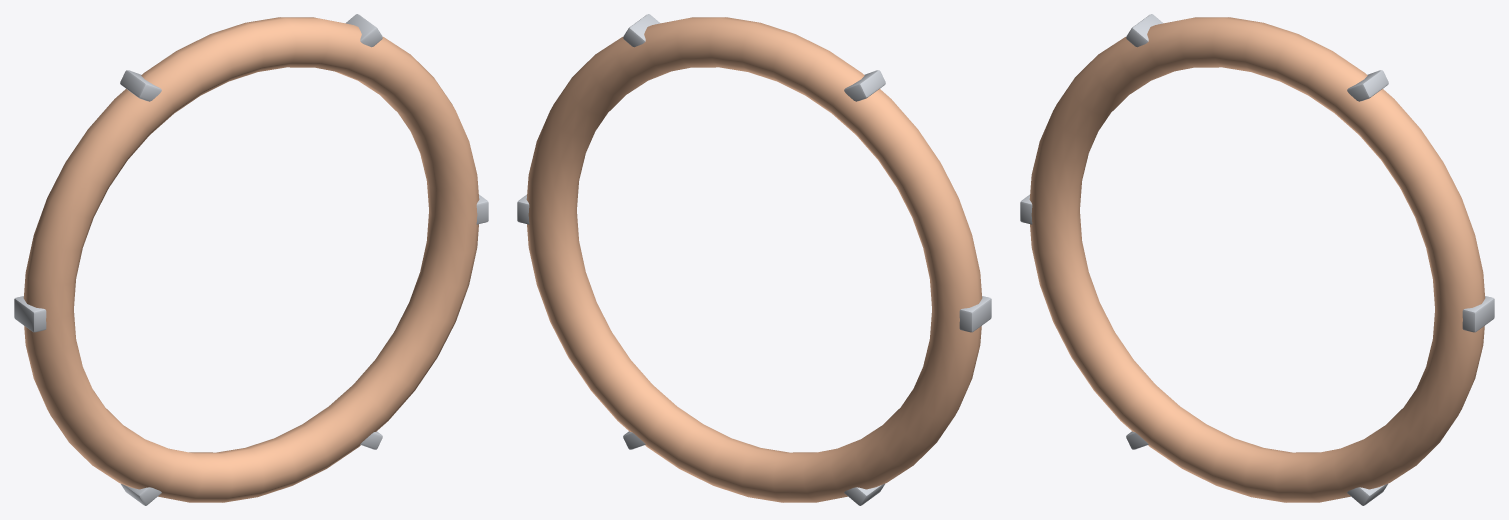
Rendered from resistor_collar.glb.
The picture shows the model from 3 angles, left to right: view 1: azimuth 30°, elevation 25°; view 2: azimuth 150°, elevation 25°; view 3: azimuth 330°, elevation 25°; orthographic projection.
Parts seen in each view (by area): view 1: Torus; view 2: Torus; view 3: Torus.
Boxes of the visible parts, x1,y1,x2,y2 form: Torus: (14, 14, 488, 505); Torus: (517, 14, 991, 505); Torus: (1020, 14, 1494, 505).
Size of the model in its own units: 3.1 by 3.06 by 0.3.
